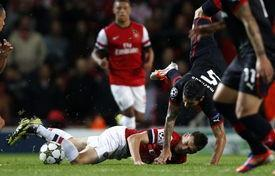Fall-Detected: (151, 19, 234, 153)
